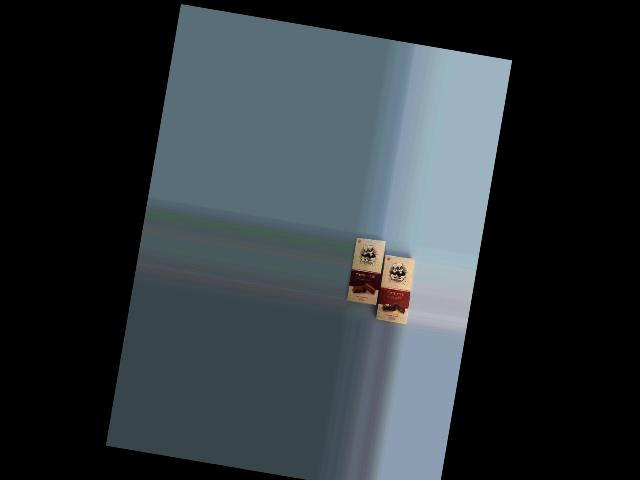chocolate: (367, 250, 418, 326)
